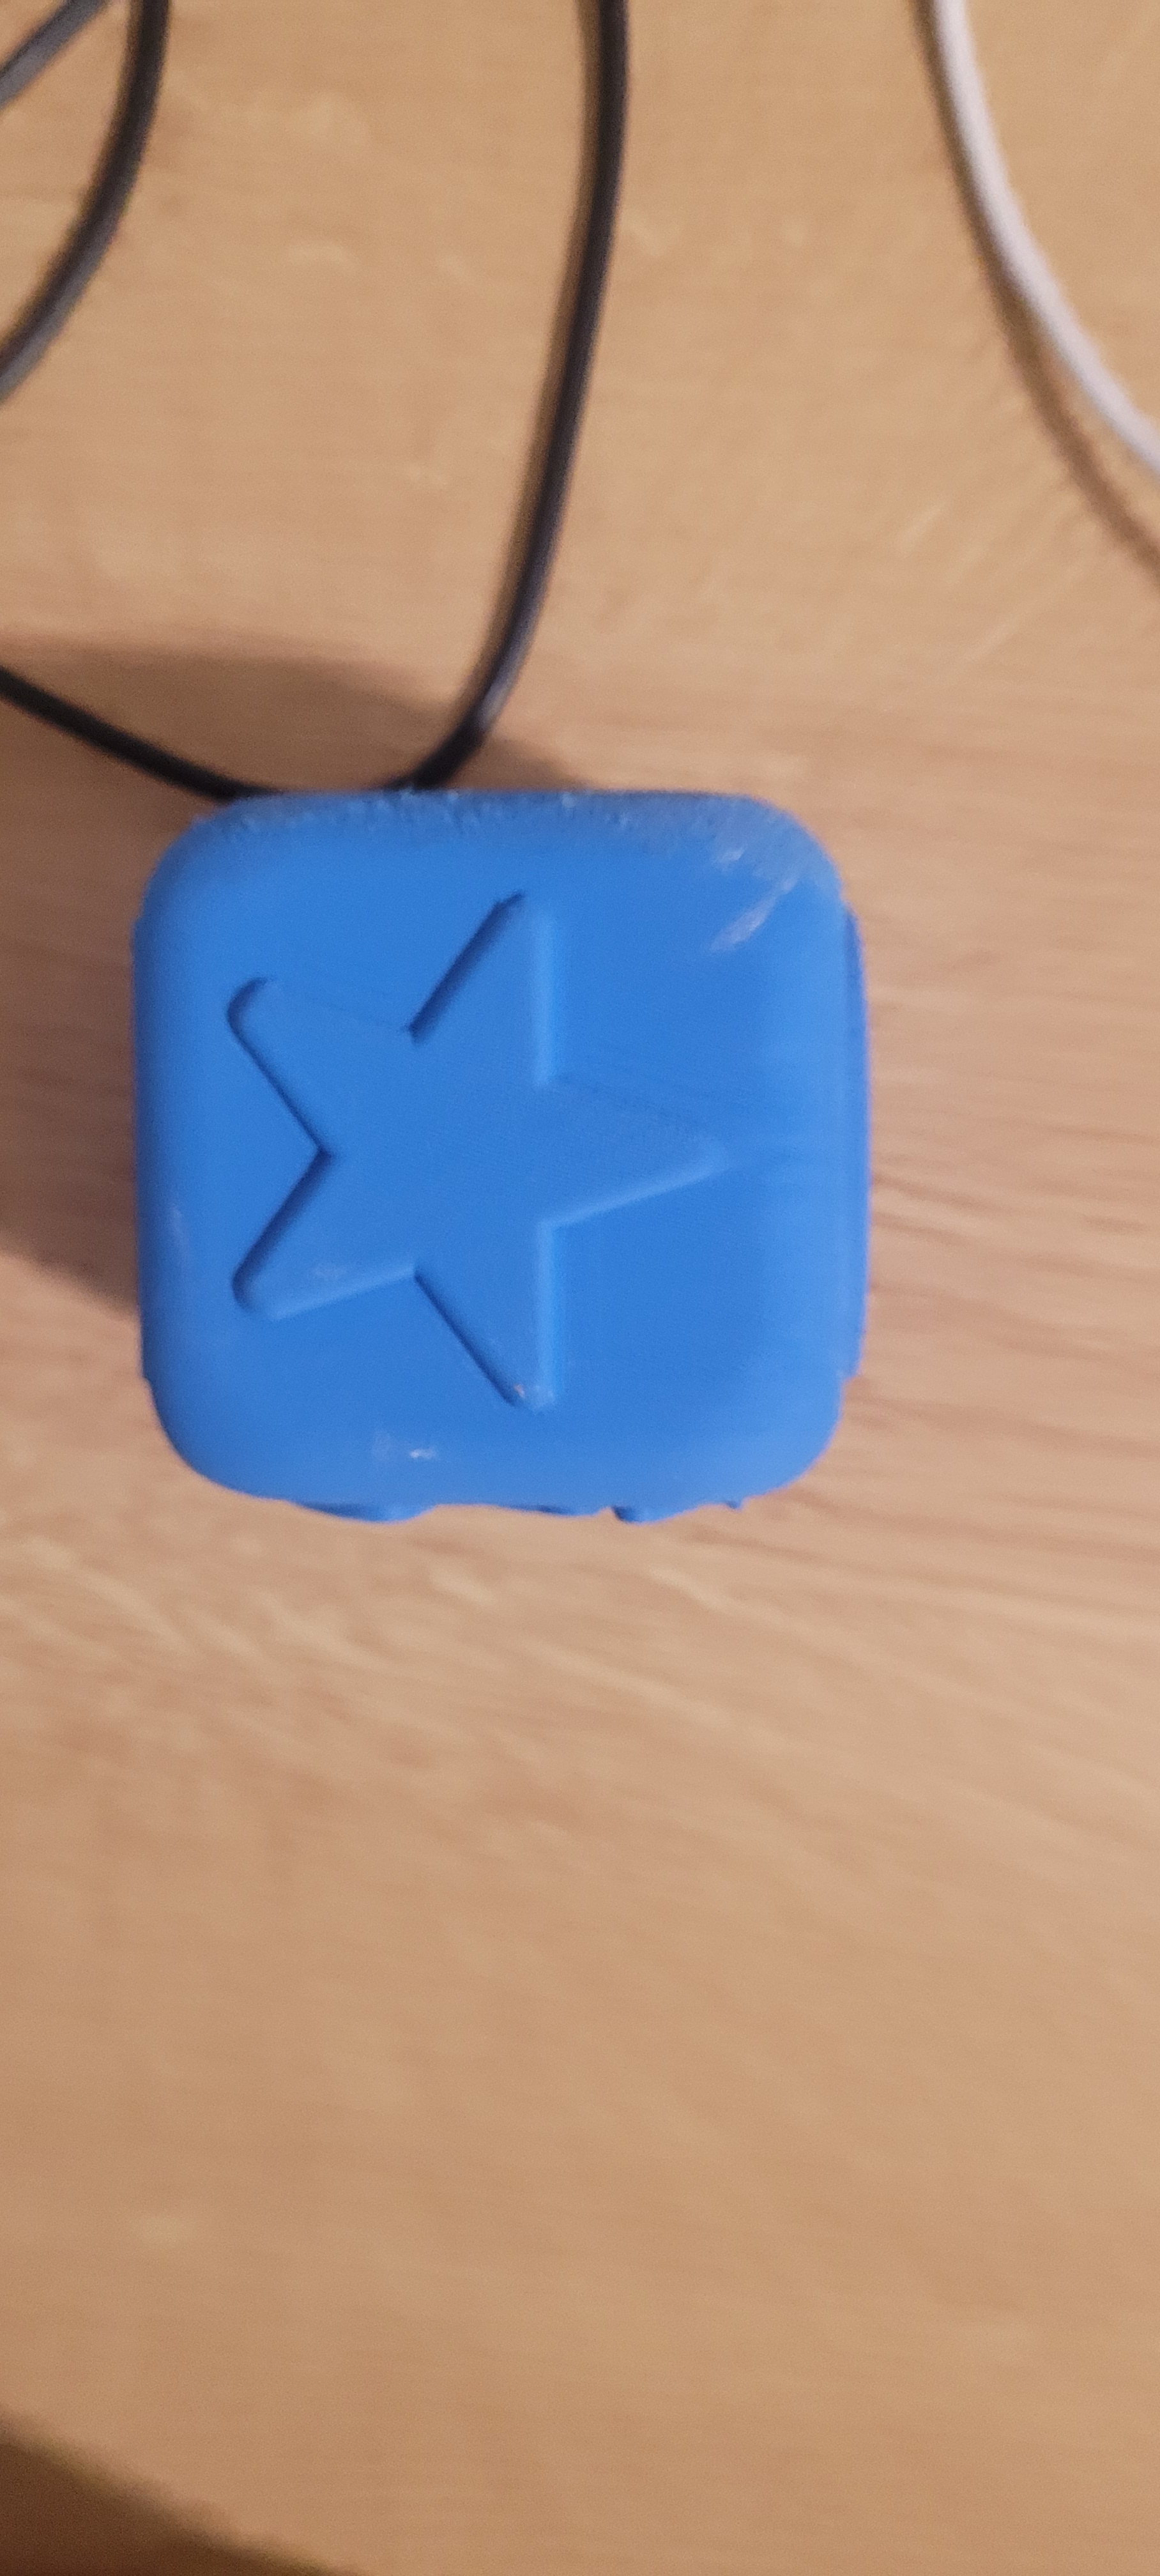Star: (174, 871, 685, 1400)
